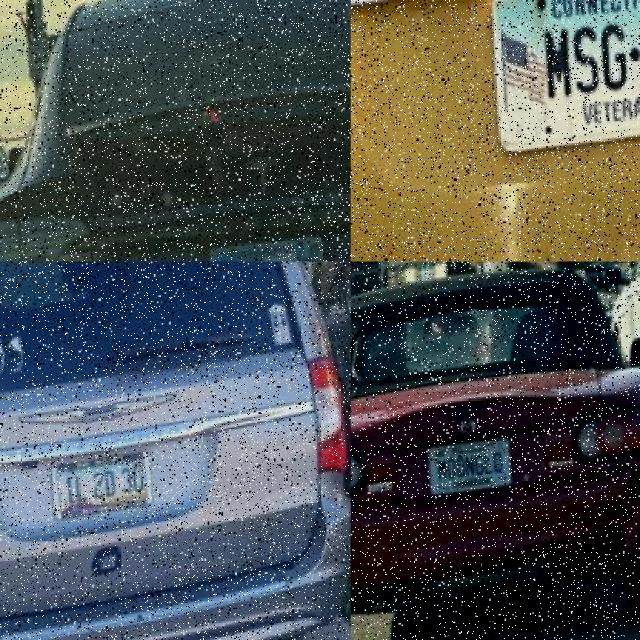licenseplate: (495, 0, 640, 154), (58, 448, 161, 518), (435, 434, 520, 494), (217, 231, 333, 262)
